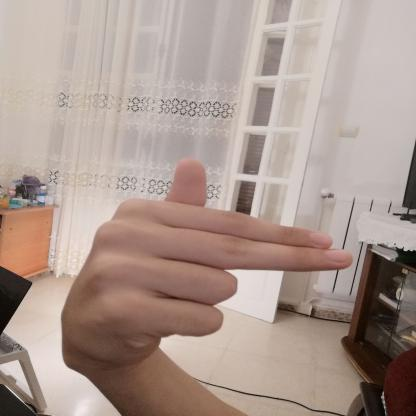GHAYN: (43, 148, 368, 383)
